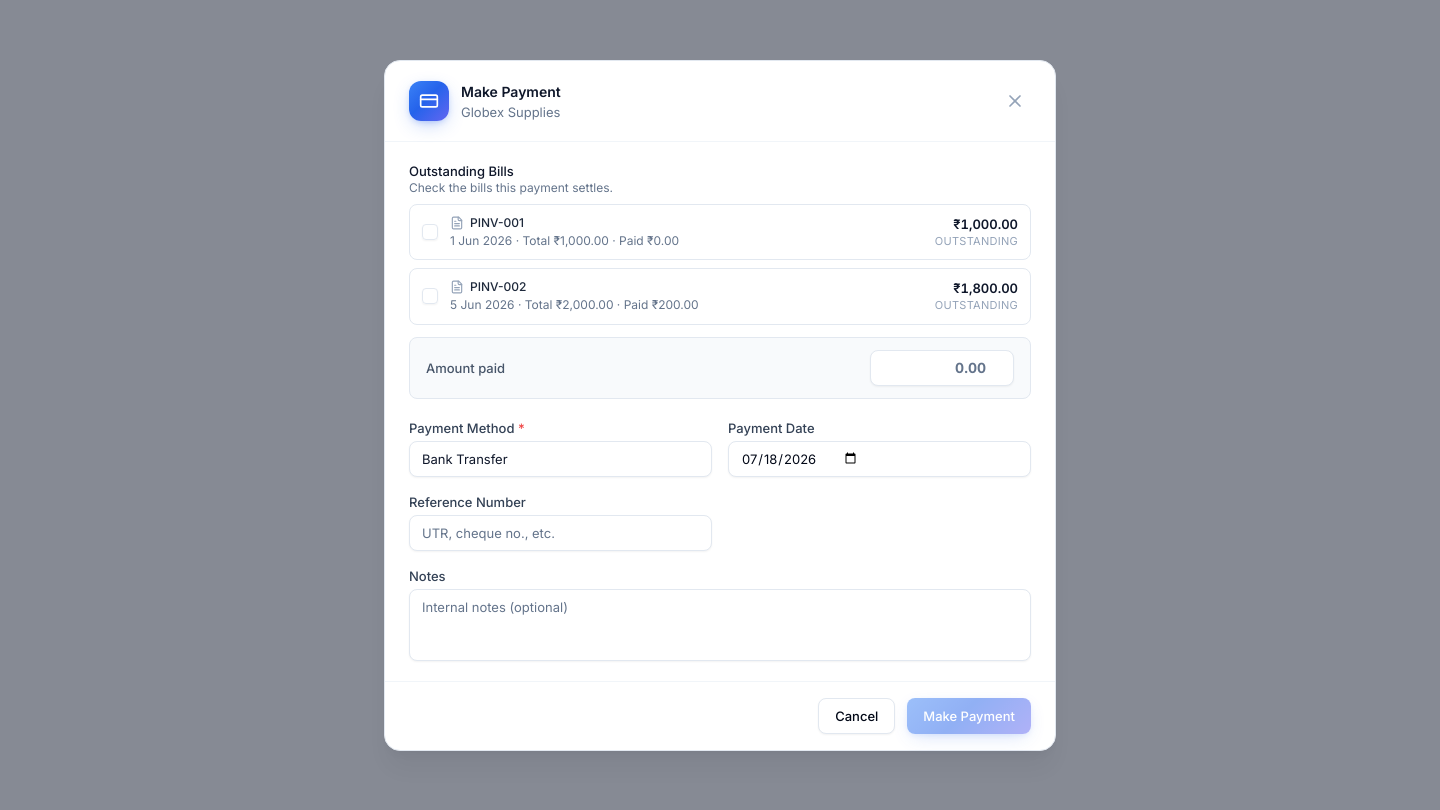
Test: RecordSupplierPaymentDialog › displays the server error message when the action fails
Click the checkbox named "select bill PINV-001": (430, 232) [422, 224, 438, 240]
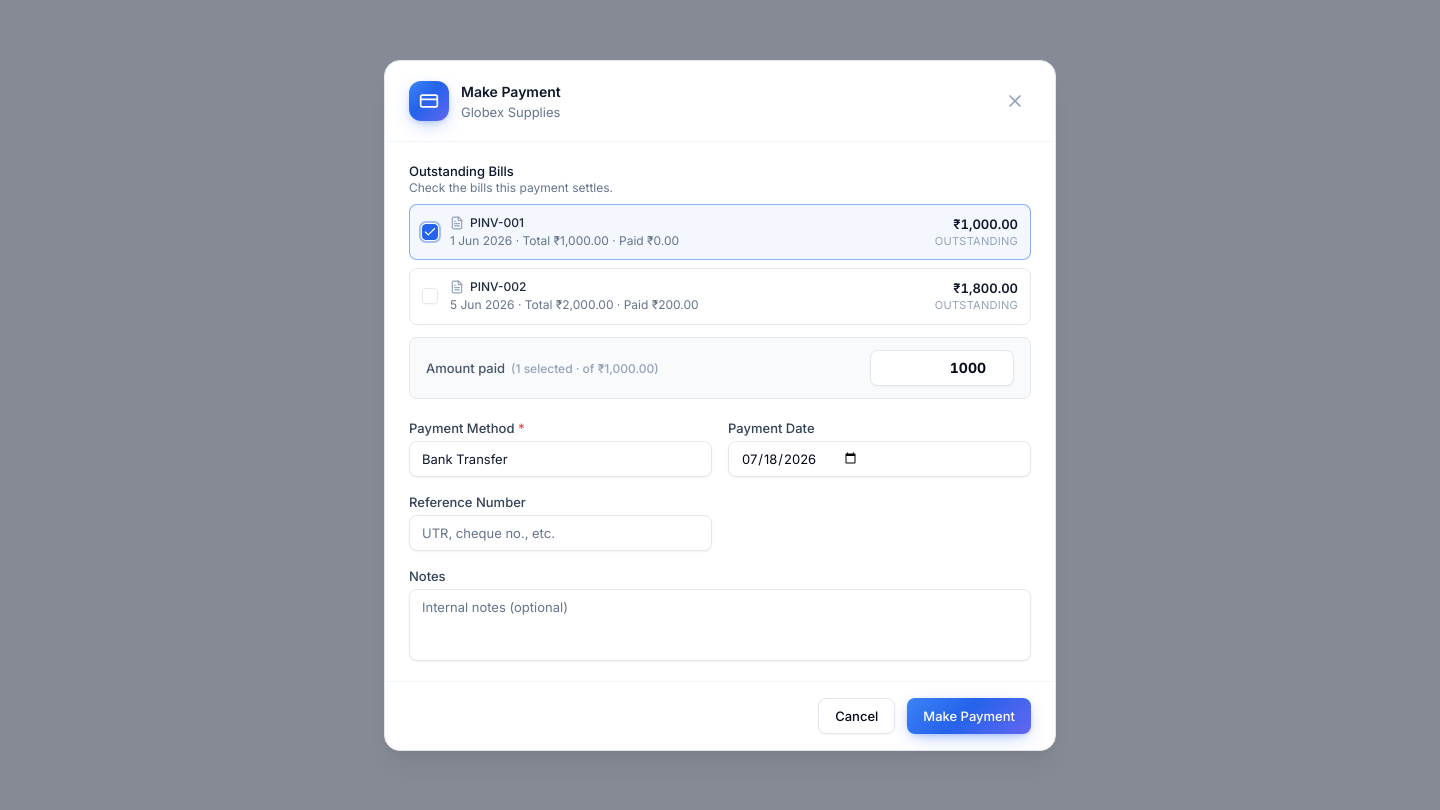
Click the button "Make Payment": (969, 716) [907, 698, 1031, 734]
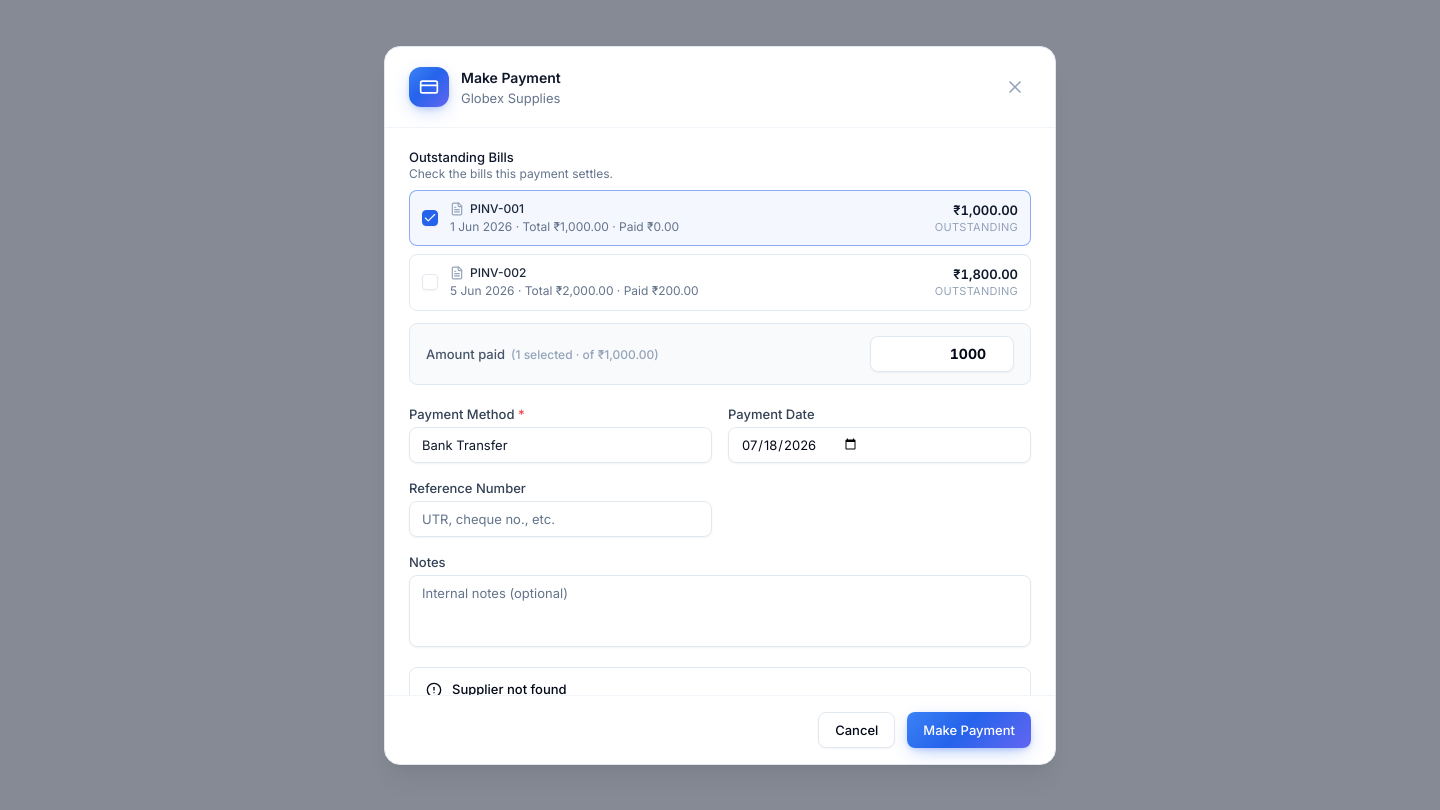
Expected: the text "Supplier not found" is shown, [452, 680, 567, 694]
